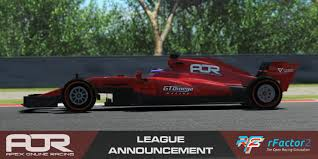FormulaOneCar: (21, 51, 300, 123)
